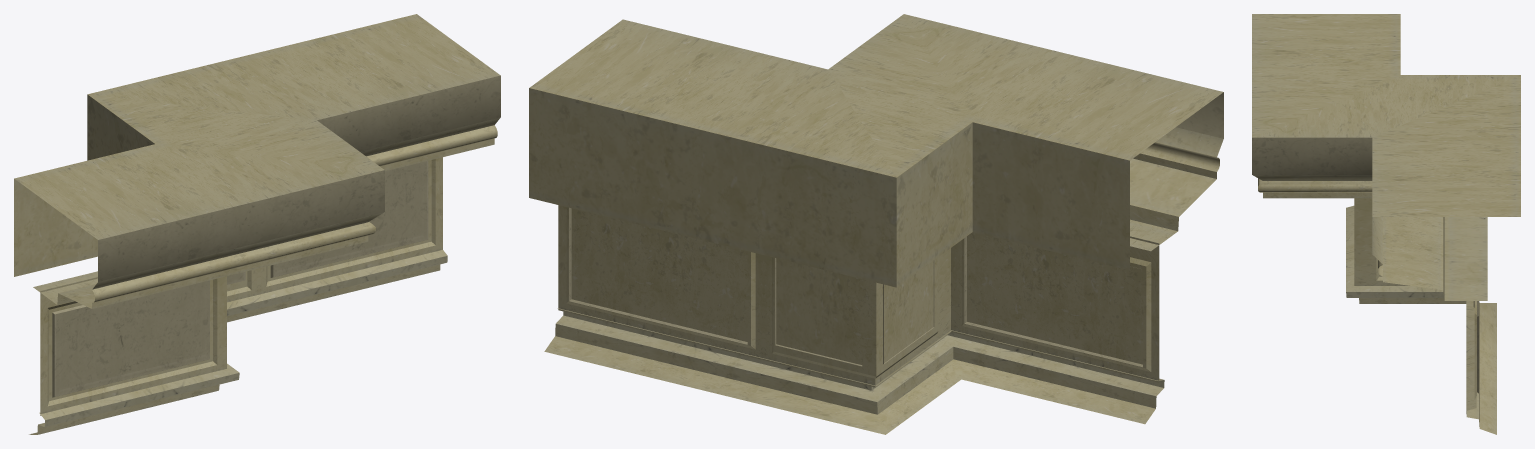
File: Cornice_Marble_90Angle_L.gltf
3 renders of one model, left to right at view 1: azimuth 30°, elevation 25°; view 2: azimuth 150°, elevation 25°; view 3: azimuth 270°, elevation 25°, orthographic. The views are drawn at different scales.
Visible parts, largest first — view 1: Cornice_Marble_90Angle_L; view 2: Cornice_Marble_90Angle_L; view 3: Cornice_Marble_90Angle_L.
Boxes of the visible parts, bbox=[...] form: Cornice_Marble_90Angle_L: bbox=[14, 14, 500, 434]; Cornice_Marble_90Angle_L: bbox=[529, 14, 1223, 434]; Cornice_Marble_90Angle_L: bbox=[1252, 14, 1520, 434].
Size of the model in its own units: 2 by 1 by 1.12.
Materials: 2 (2 with a texture image).
